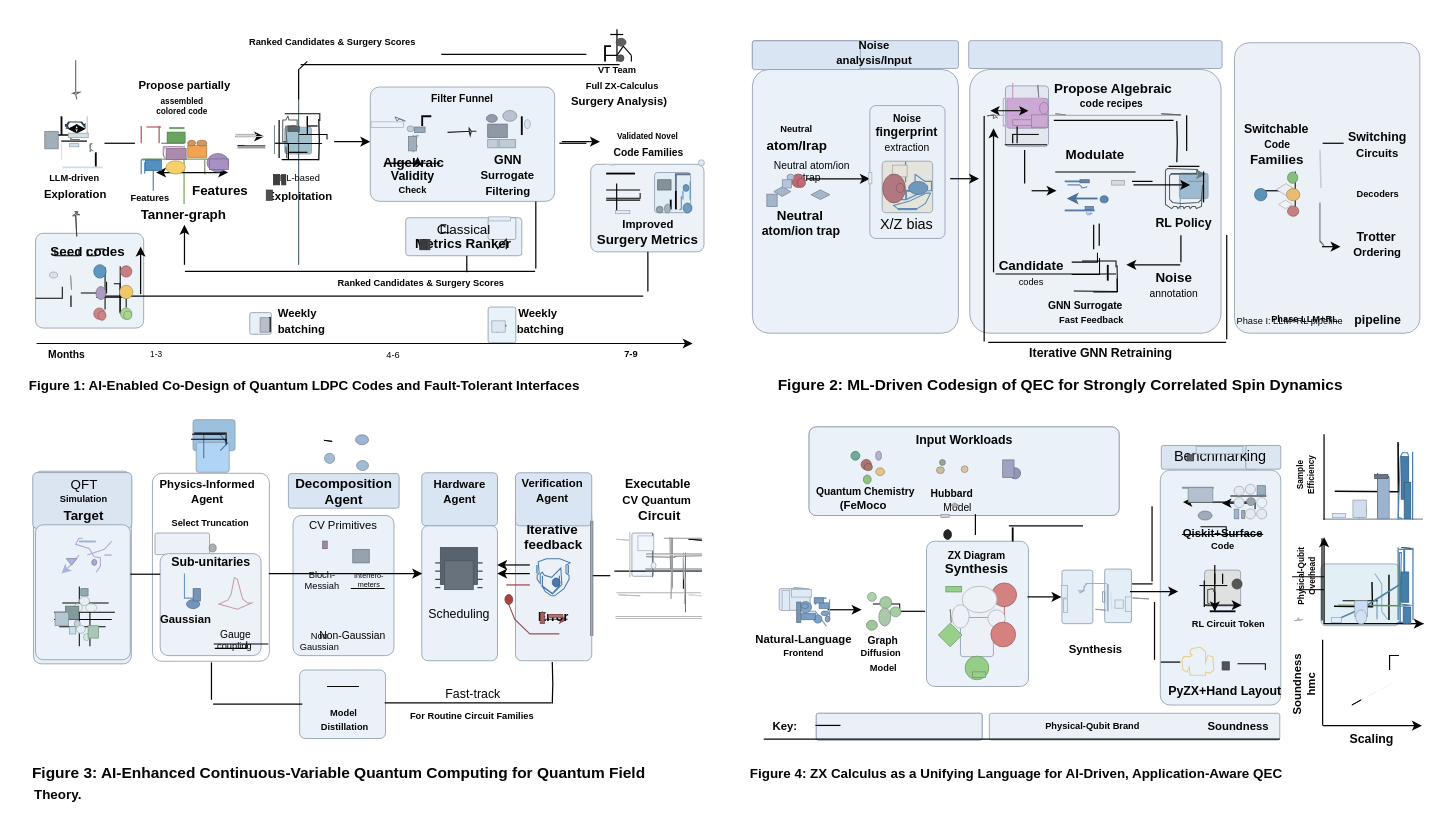
The diagram is 1452 pixels wide and 827 high, and some of its shapes have lost their labels. The centre of each missing label's shape, as x and y in pixels:
"Input Metrics" belongs at point (898, 726).
"LLM-Driven Recipe Composition" belongs at point (1095, 54).
